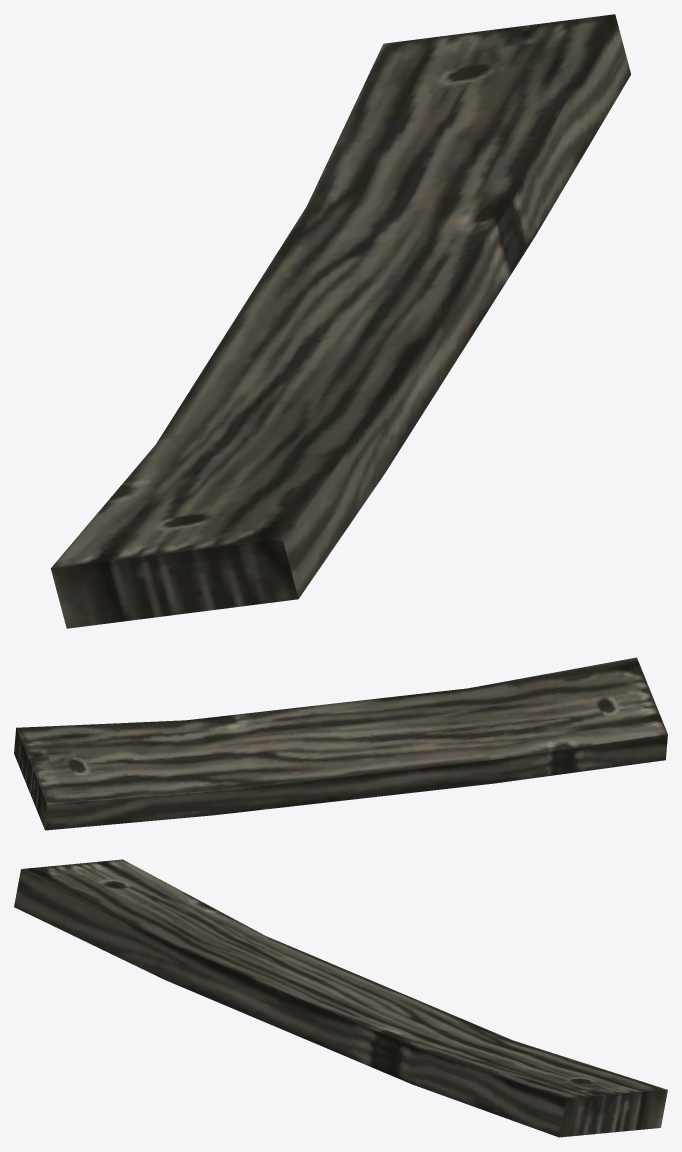
File: ANIMATEDINSTANCES_BOARD_FALL1__BA.fbx
3 views of the same model, one above another, from view 1: azimuth 30°, elevation 25°; view 2: azimuth 150°, elevation 25°; view 3: azimuth 270°, elevation 25° (orthographic). The views are drawn at different scales.
Visible parts, largest first — view 1: ANIMATEDINSTANCES_BOARD_FALL1__BA; view 2: ANIMATEDINSTANCES_BOARD_FALL1__BA; view 3: ANIMATEDINSTANCES_BOARD_FALL1__BA.
Part boxes in pixels (bbox=[...]): ANIMATEDINSTANCES_BOARD_FALL1__BA: bbox=[51, 14, 630, 628]; ANIMATEDINSTANCES_BOARD_FALL1__BA: bbox=[14, 657, 667, 830]; ANIMATEDINSTANCES_BOARD_FALL1__BA: bbox=[14, 859, 667, 1137].
Size of the model in its own units: 15490 by 2006 by 15489.
1 material, 1 textured.
